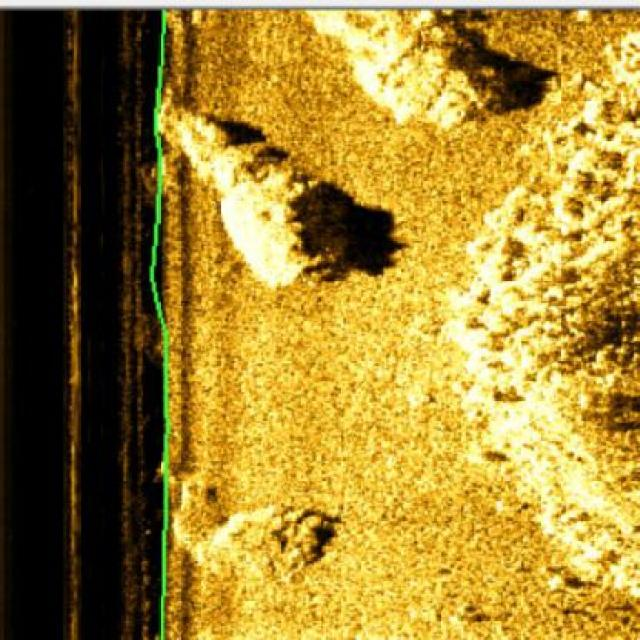bedrock group: (460, 10, 638, 590)
